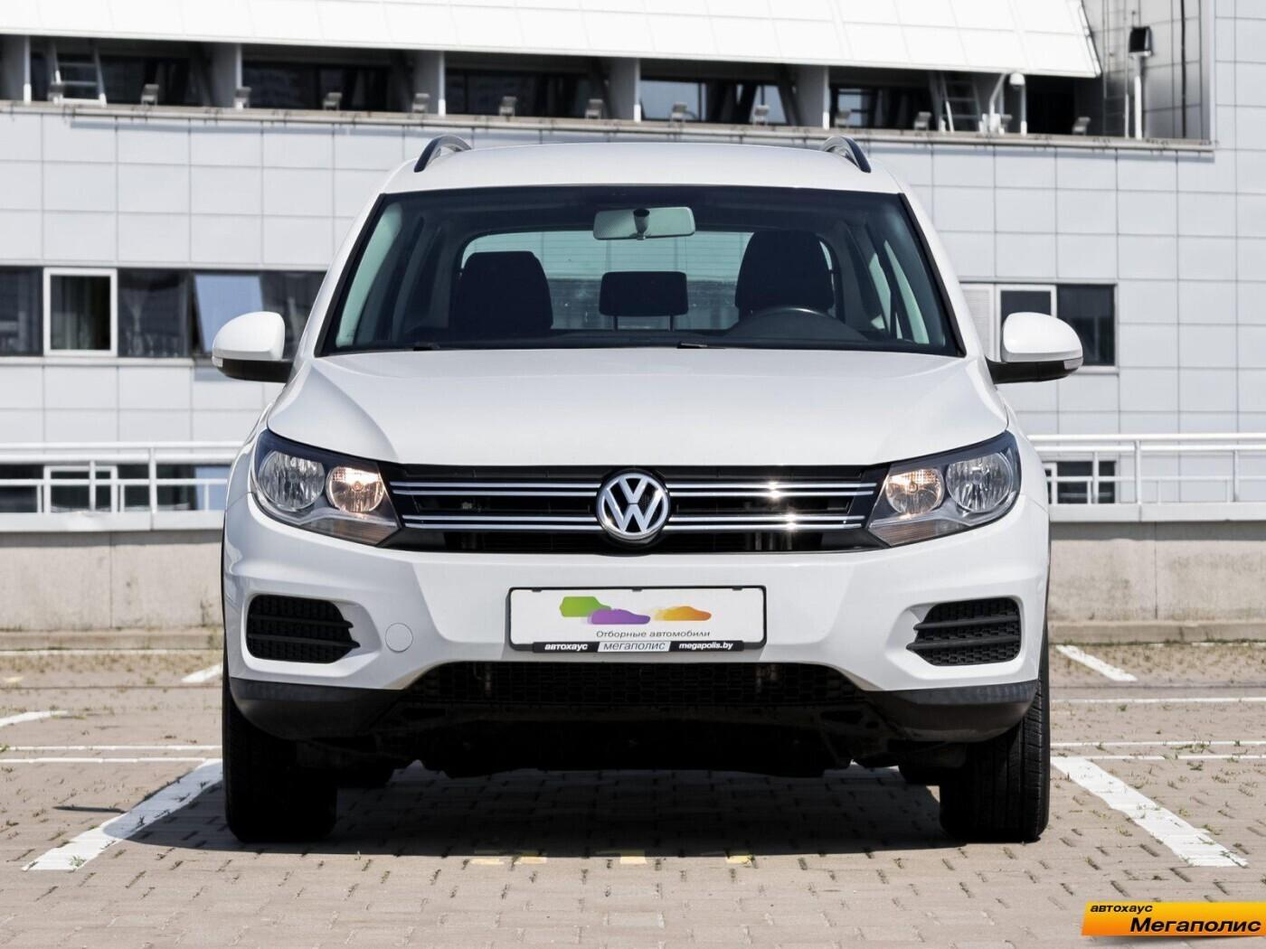Tiguan_2011-2018: (208, 141, 1085, 855)
